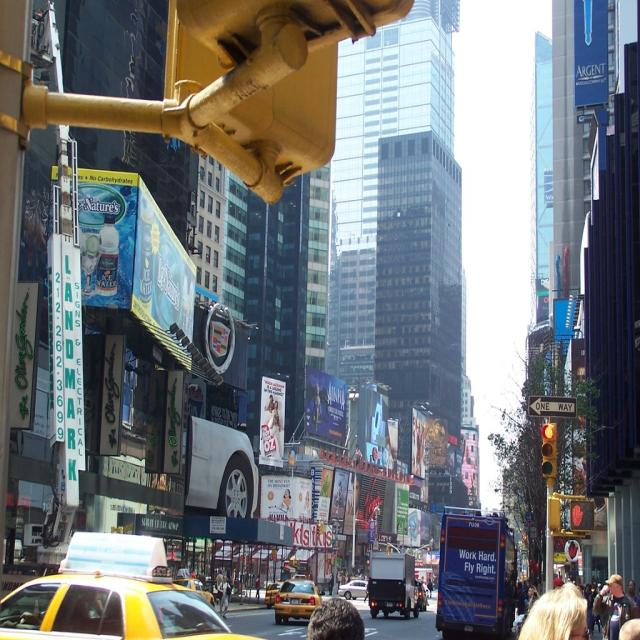Heavy Duty Truck: (434, 503, 523, 638), (364, 546, 418, 618)
Passenger Car: (1, 573, 262, 640), (189, 425, 261, 522), (272, 575, 322, 623)
Pedestrians: (218, 572, 234, 621)
